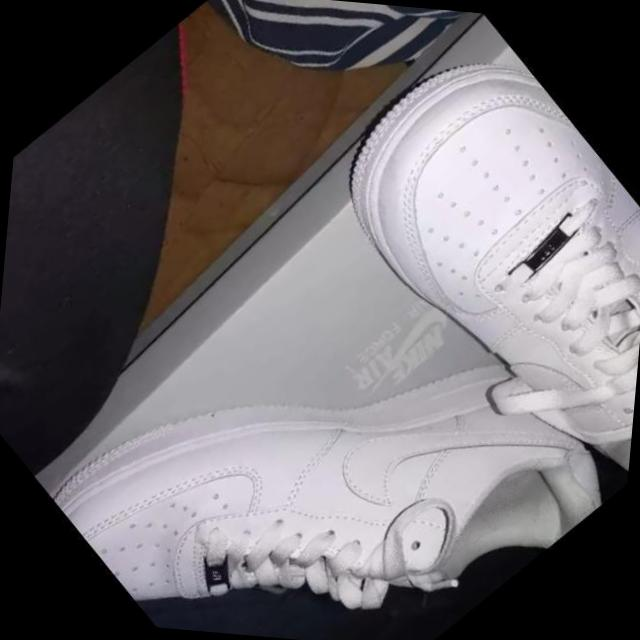nike_fake_airforce: (32, 136, 640, 640), (278, 10, 640, 519)
